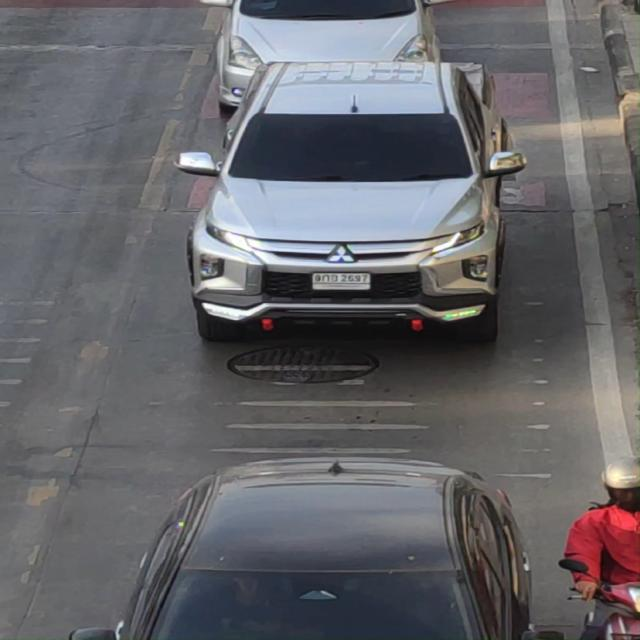car: (179, 41, 529, 382)
